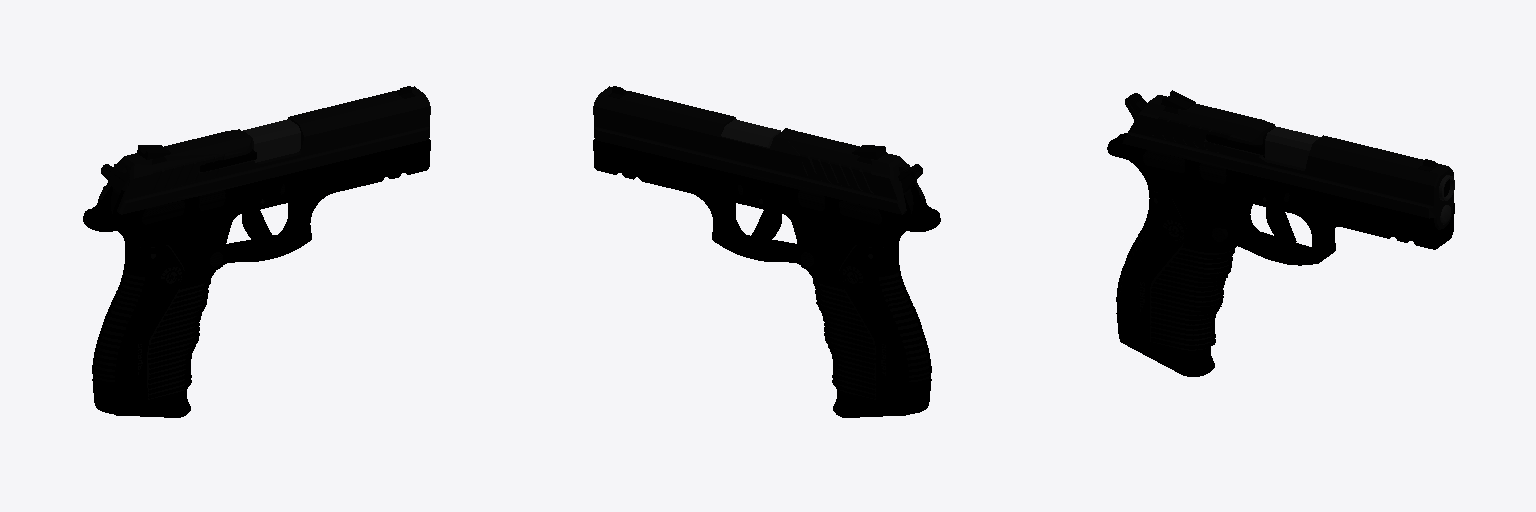
Rendered from pistol_tauros.obj.
3 views of the same model, side by side, from view 1: azimuth 30°, elevation 25°; view 2: azimuth 150°, elevation 25°; view 3: azimuth 330°, elevation 25° (orthographic).
Parts seen in each view (by area): view 1: pistola_Círculo.095, Círculo.017_Círculo.022, Círculo.010_Círculo.068, Plano.002, Círculo.033_Círculo.056, Plano.011_Plano.012, Círculo.037_Círculo.045, Círculo.023_Círculo.039; view 2: pistola_Círculo.095, Círculo.017_Círculo.022, Círculo.010_Círculo.068, Círculo.033_Círculo.056, Plano.002, Plano.011_Plano.012, Círculo.041_Círculo.053; view 3: pistola_Círculo.095, Círculo.017_Círculo.022, Círculo.033_Círculo.056, Plano.002, Círculo.010_Círculo.068, Plano.011_Plano.012, Círculo.037_Círculo.045.
Boxes of the visible parts, x1=… form: pistola_Círculo.095: x1=83, y1=139, x2=430, y2=413; Círculo.017_Círculo.022: x1=99, y1=86, x2=429, y2=214; Círculo.010_Círculo.068: x1=92, y1=261, x2=153, y2=389; Plano.002: x1=242, y1=119, x2=300, y2=162; Círculo.033_Círculo.056: x1=113, y1=388, x2=190, y2=417; Plano.011_Plano.012: x1=242, y1=210, x2=272, y2=241; Círculo.037_Círculo.045: x1=142, y1=201, x2=184, y2=224; Círculo.023_Círculo.039: x1=101, y1=164, x2=127, y2=213; pistola_Círculo.095: x1=593, y1=139, x2=940, y2=413; Círculo.017_Círculo.022: x1=594, y1=86, x2=924, y2=214; Círculo.010_Círculo.068: x1=870, y1=261, x2=931, y2=389; Círculo.033_Círculo.056: x1=833, y1=388, x2=910, y2=417; Plano.002: x1=721, y1=119, x2=780, y2=147; Plano.011_Plano.012: x1=751, y1=210, x2=781, y2=241; Círculo.041_Círculo.053: x1=839, y1=201, x2=881, y2=224; pistola_Círculo.095: x1=1107, y1=133, x2=1454, y2=350; Círculo.017_Círculo.022: x1=1122, y1=95, x2=1453, y2=229; Círculo.033_Círculo.056: x1=1120, y1=336, x2=1214, y2=376; Plano.002: x1=1265, y1=127, x2=1320, y2=168; Círculo.010_Círculo.068: x1=1116, y1=209, x2=1155, y2=316; Plano.011_Plano.012: x1=1266, y1=207, x2=1296, y2=244; Círculo.037_Círculo.045: x1=1143, y1=150, x2=1184, y2=172.
Bounding box in the file's own units: 22.12 × 16.85 × 2.92.